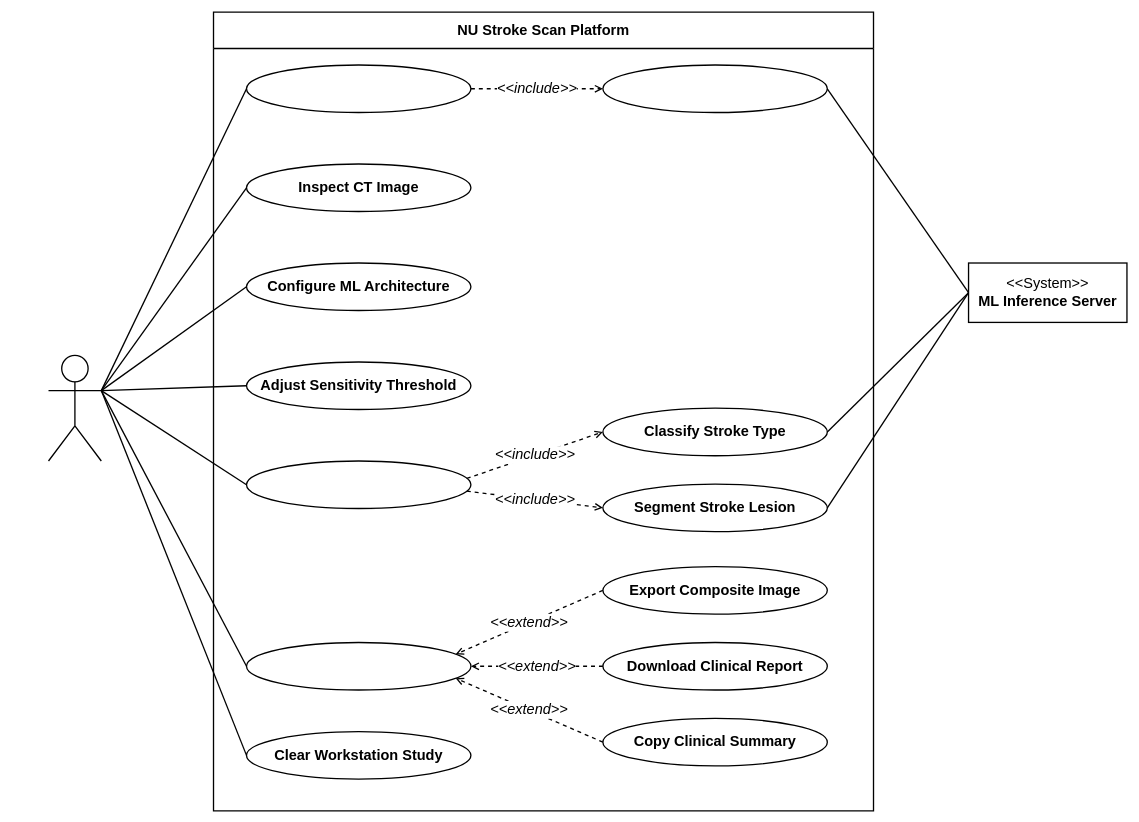
Some shapes in this 1139 by 822 pixel diagram are drawn without their labels. The box of each missing label's shape, as (x1, y1, x2, y2) in pixels:
Export Diagnostic Results: (246, 642, 471, 690)
Medical Personnel: (48, 354, 102, 461)
Run Stroke Analysis: (246, 460, 471, 509)
Upload Brain CT Scan: (246, 64, 471, 113)
Validate CT Modality: (602, 64, 828, 113)
